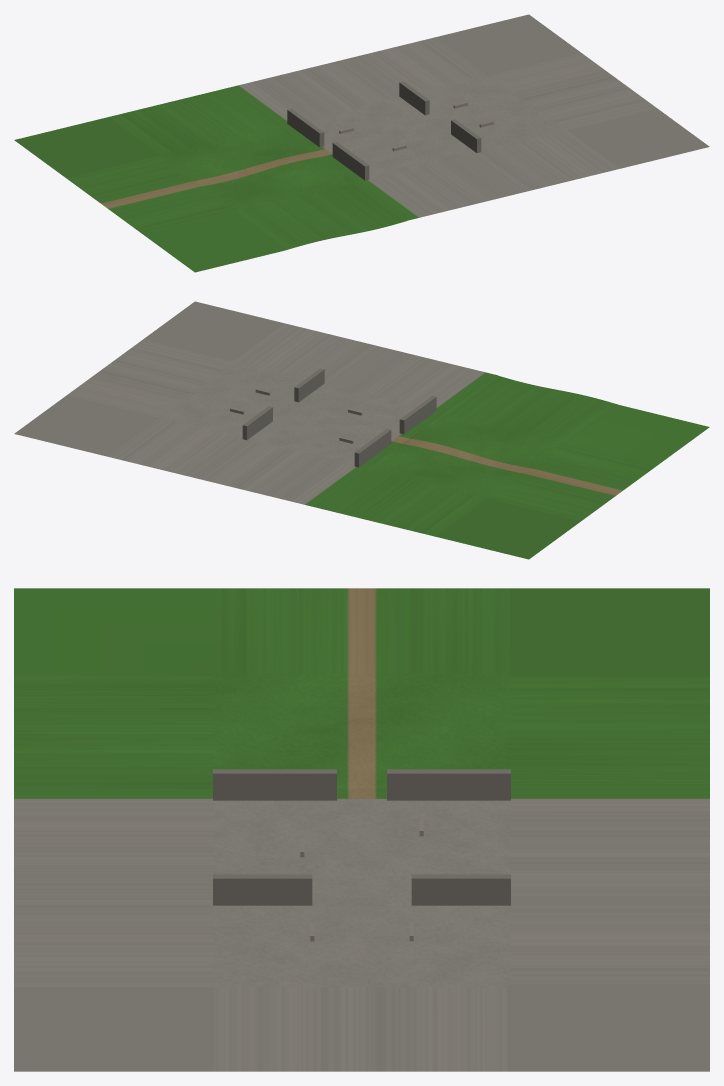
File: siege-demo.glb
The picture shows the model from 3 angles, top to bottom: view 1: azimuth 30°, elevation 25°; view 2: azimuth 150°, elevation 25°; view 3: azimuth 270°, elevation 25°; orthographic projection. The views are drawn at different scales.
Parts seen in each view (by area): view 1: ground, mb_static_0; view 2: ground, mb_static_0; view 3: ground, mb_static_0.
Part boxes in pixels (bbox=[...]): ground: bbox=[14, 14, 709, 272]; mb_static_0: bbox=[287, 81, 481, 180]; ground: bbox=[14, 301, 709, 559]; mb_static_0: bbox=[242, 368, 436, 467]; ground: bbox=[14, 588, 709, 1071]; mb_static_0: bbox=[213, 769, 510, 905].
Bounding box in the file's own units: 230 × 6.8 × 140.
